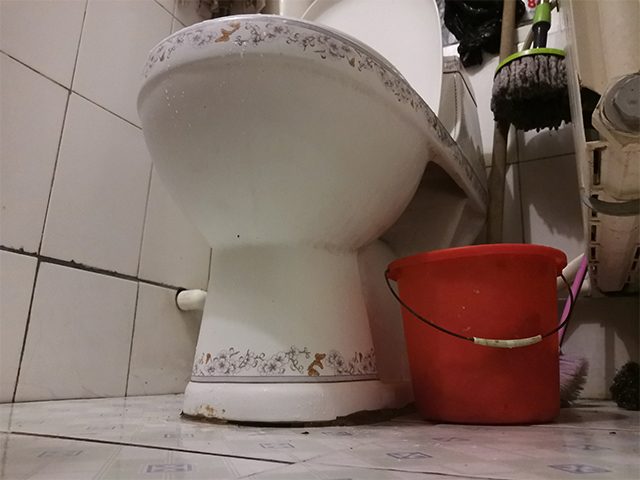closestool: (134, 1, 494, 431)
